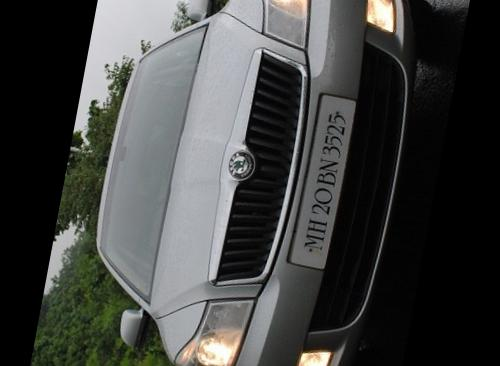plate: (275, 88, 369, 278)
